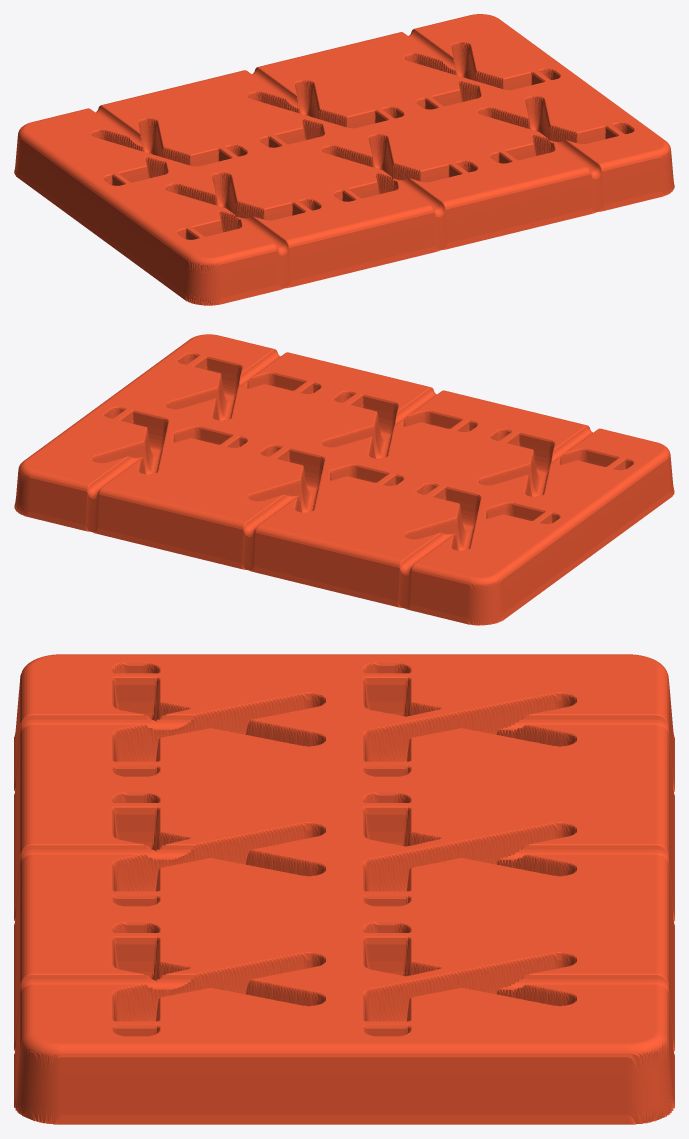
Rendered from mold.glb.
3 views of the same model, one above another, from view 1: azimuth 30°, elevation 25°; view 2: azimuth 150°, elevation 25°; view 3: azimuth 270°, elevation 25° (orthographic). The views are drawn at different scales.
Parts seen in each view (by area): view 1: geometry_0; view 2: geometry_0; view 3: geometry_0.
Boxes of the visible parts, x1=… form: geometry_0: x1=14, y1=14, x2=674, y2=305; geometry_0: x1=14, y1=334, x2=674, y2=625; geometry_0: x1=14, y1=654, x2=674, y2=1124.
Size of the model in its own units: 0.1824 by 0.0155 by 0.1262.
